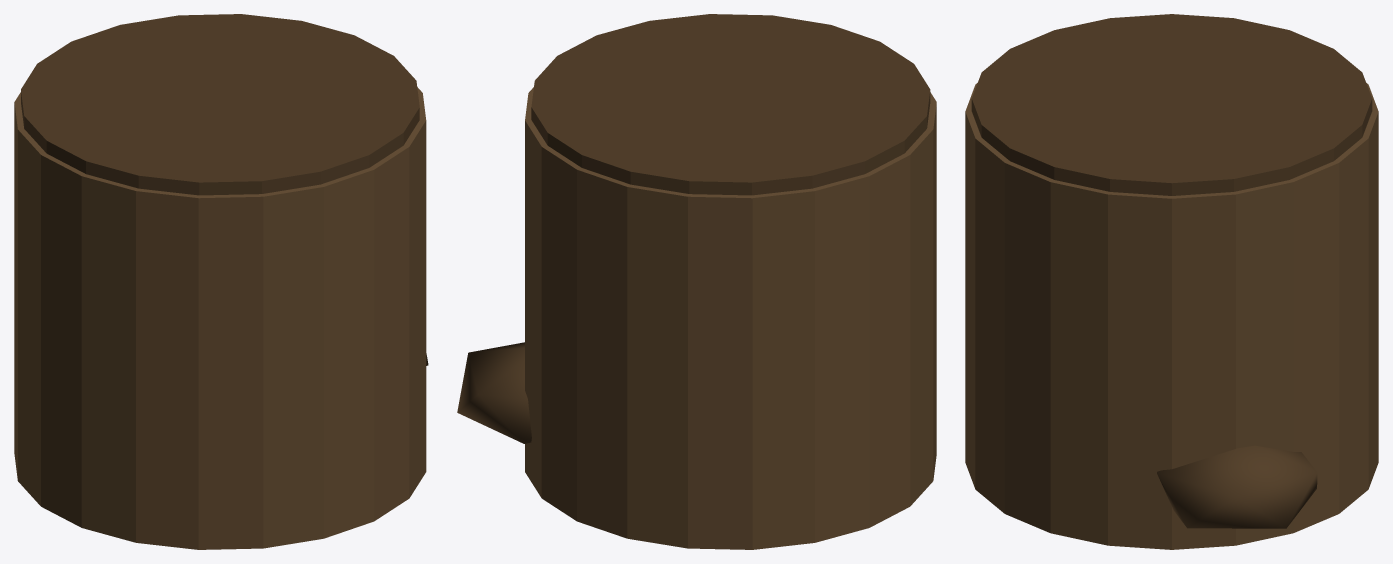
The model's file is stump_02.glb.
3 renders of one model, left to right at view 1: azimuth 30°, elevation 25°; view 2: azimuth 150°, elevation 25°; view 3: azimuth 270°, elevation 25°, orthographic.
Visible parts, largest first — view 1: Cylinder; view 2: Cylinder; view 3: Cylinder.
Boxes of the visible parts, x1,y1,x2,y2 form: Cylinder: [14, 14, 428, 549]; Cylinder: [457, 14, 936, 549]; Cylinder: [965, 14, 1378, 549].
Size of the model in its own units: 0.3655 by 0.311 by 0.32.
